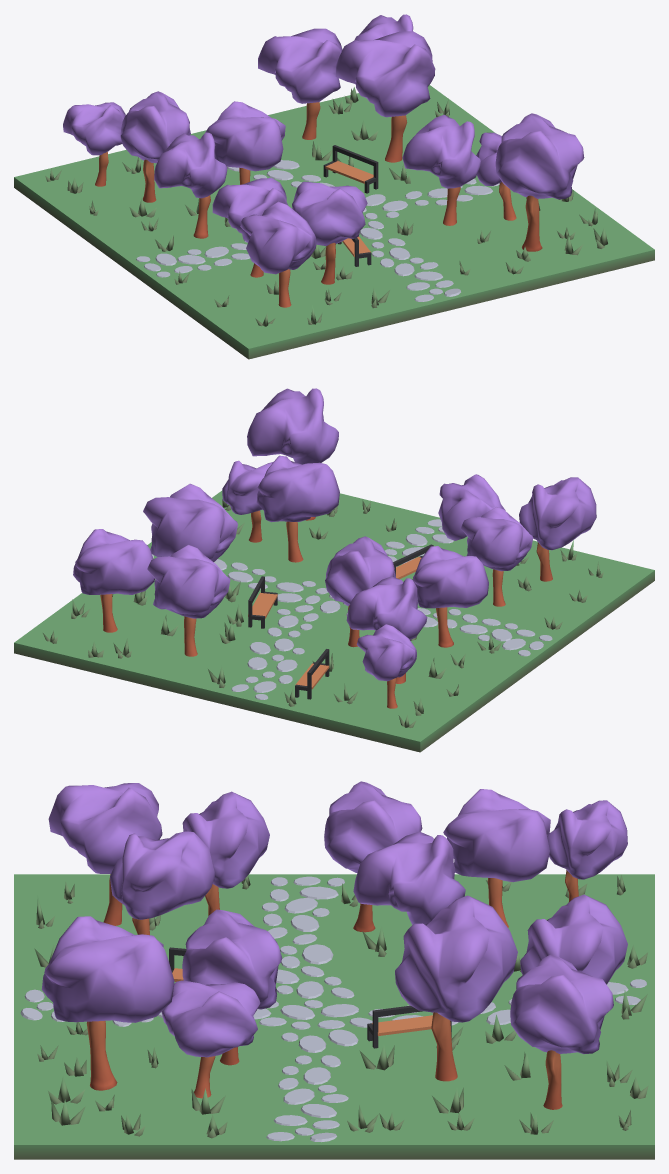
The model's file is urban_park_cen.glb.
The picture shows the model from 3 angles, top to bottom: view 1: azimuth 30°, elevation 25°; view 2: azimuth 150°, elevation 25°; view 3: azimuth 270°, elevation 25°; orthographic projection. The views are drawn at different scales.
Parts seen in each view (by area): view 1: urban_park_cen; view 2: urban_park_cen; view 3: urban_park_cen.
Part boxes in pixels (box(x1,y1,x2,y2)): urban_park_cen: box(14, 14, 654, 359); urban_park_cen: box(14, 388, 654, 752); urban_park_cen: box(14, 781, 654, 1159).
Size of the model in its own units: 2 by 0.626 by 2.
Materials: 1 (1 with a texture image).
